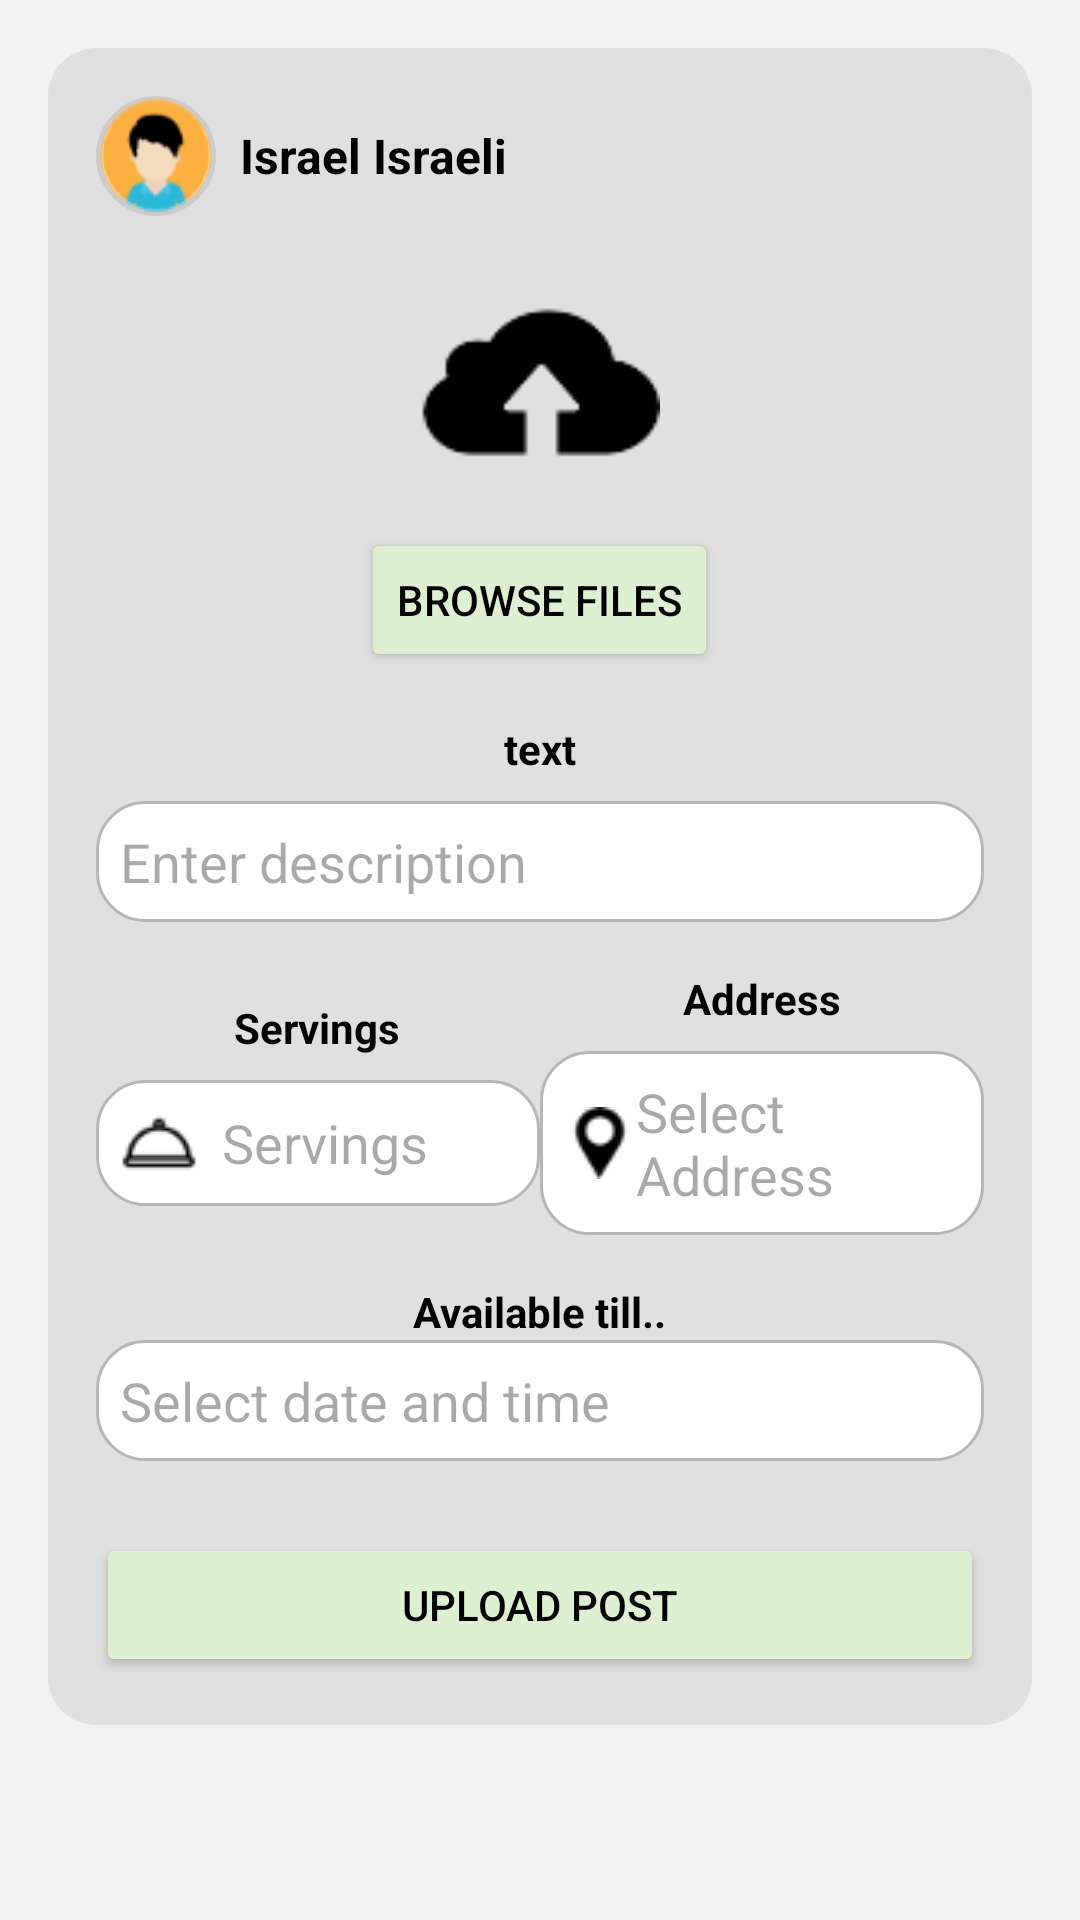

Named icons in this screenshot (1080px×1920px) and their bounding boxes, (x1, y1, x2, y2):
Upload Icon: (422, 308, 660, 456)
